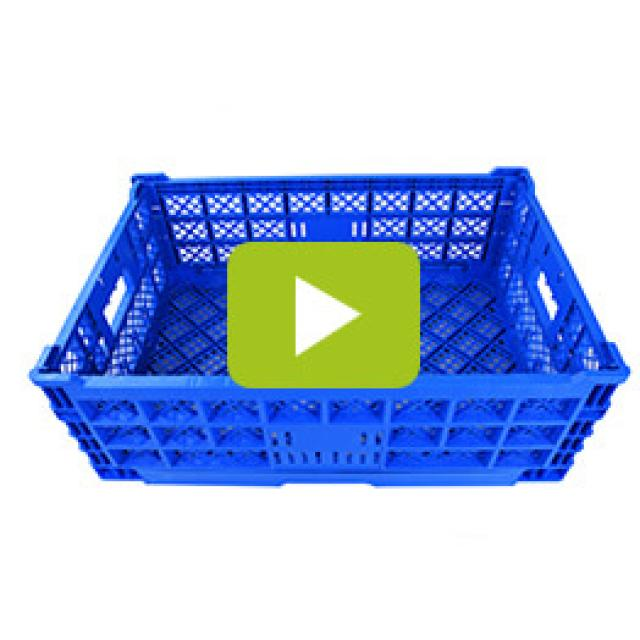basket: (30, 168, 631, 489)
